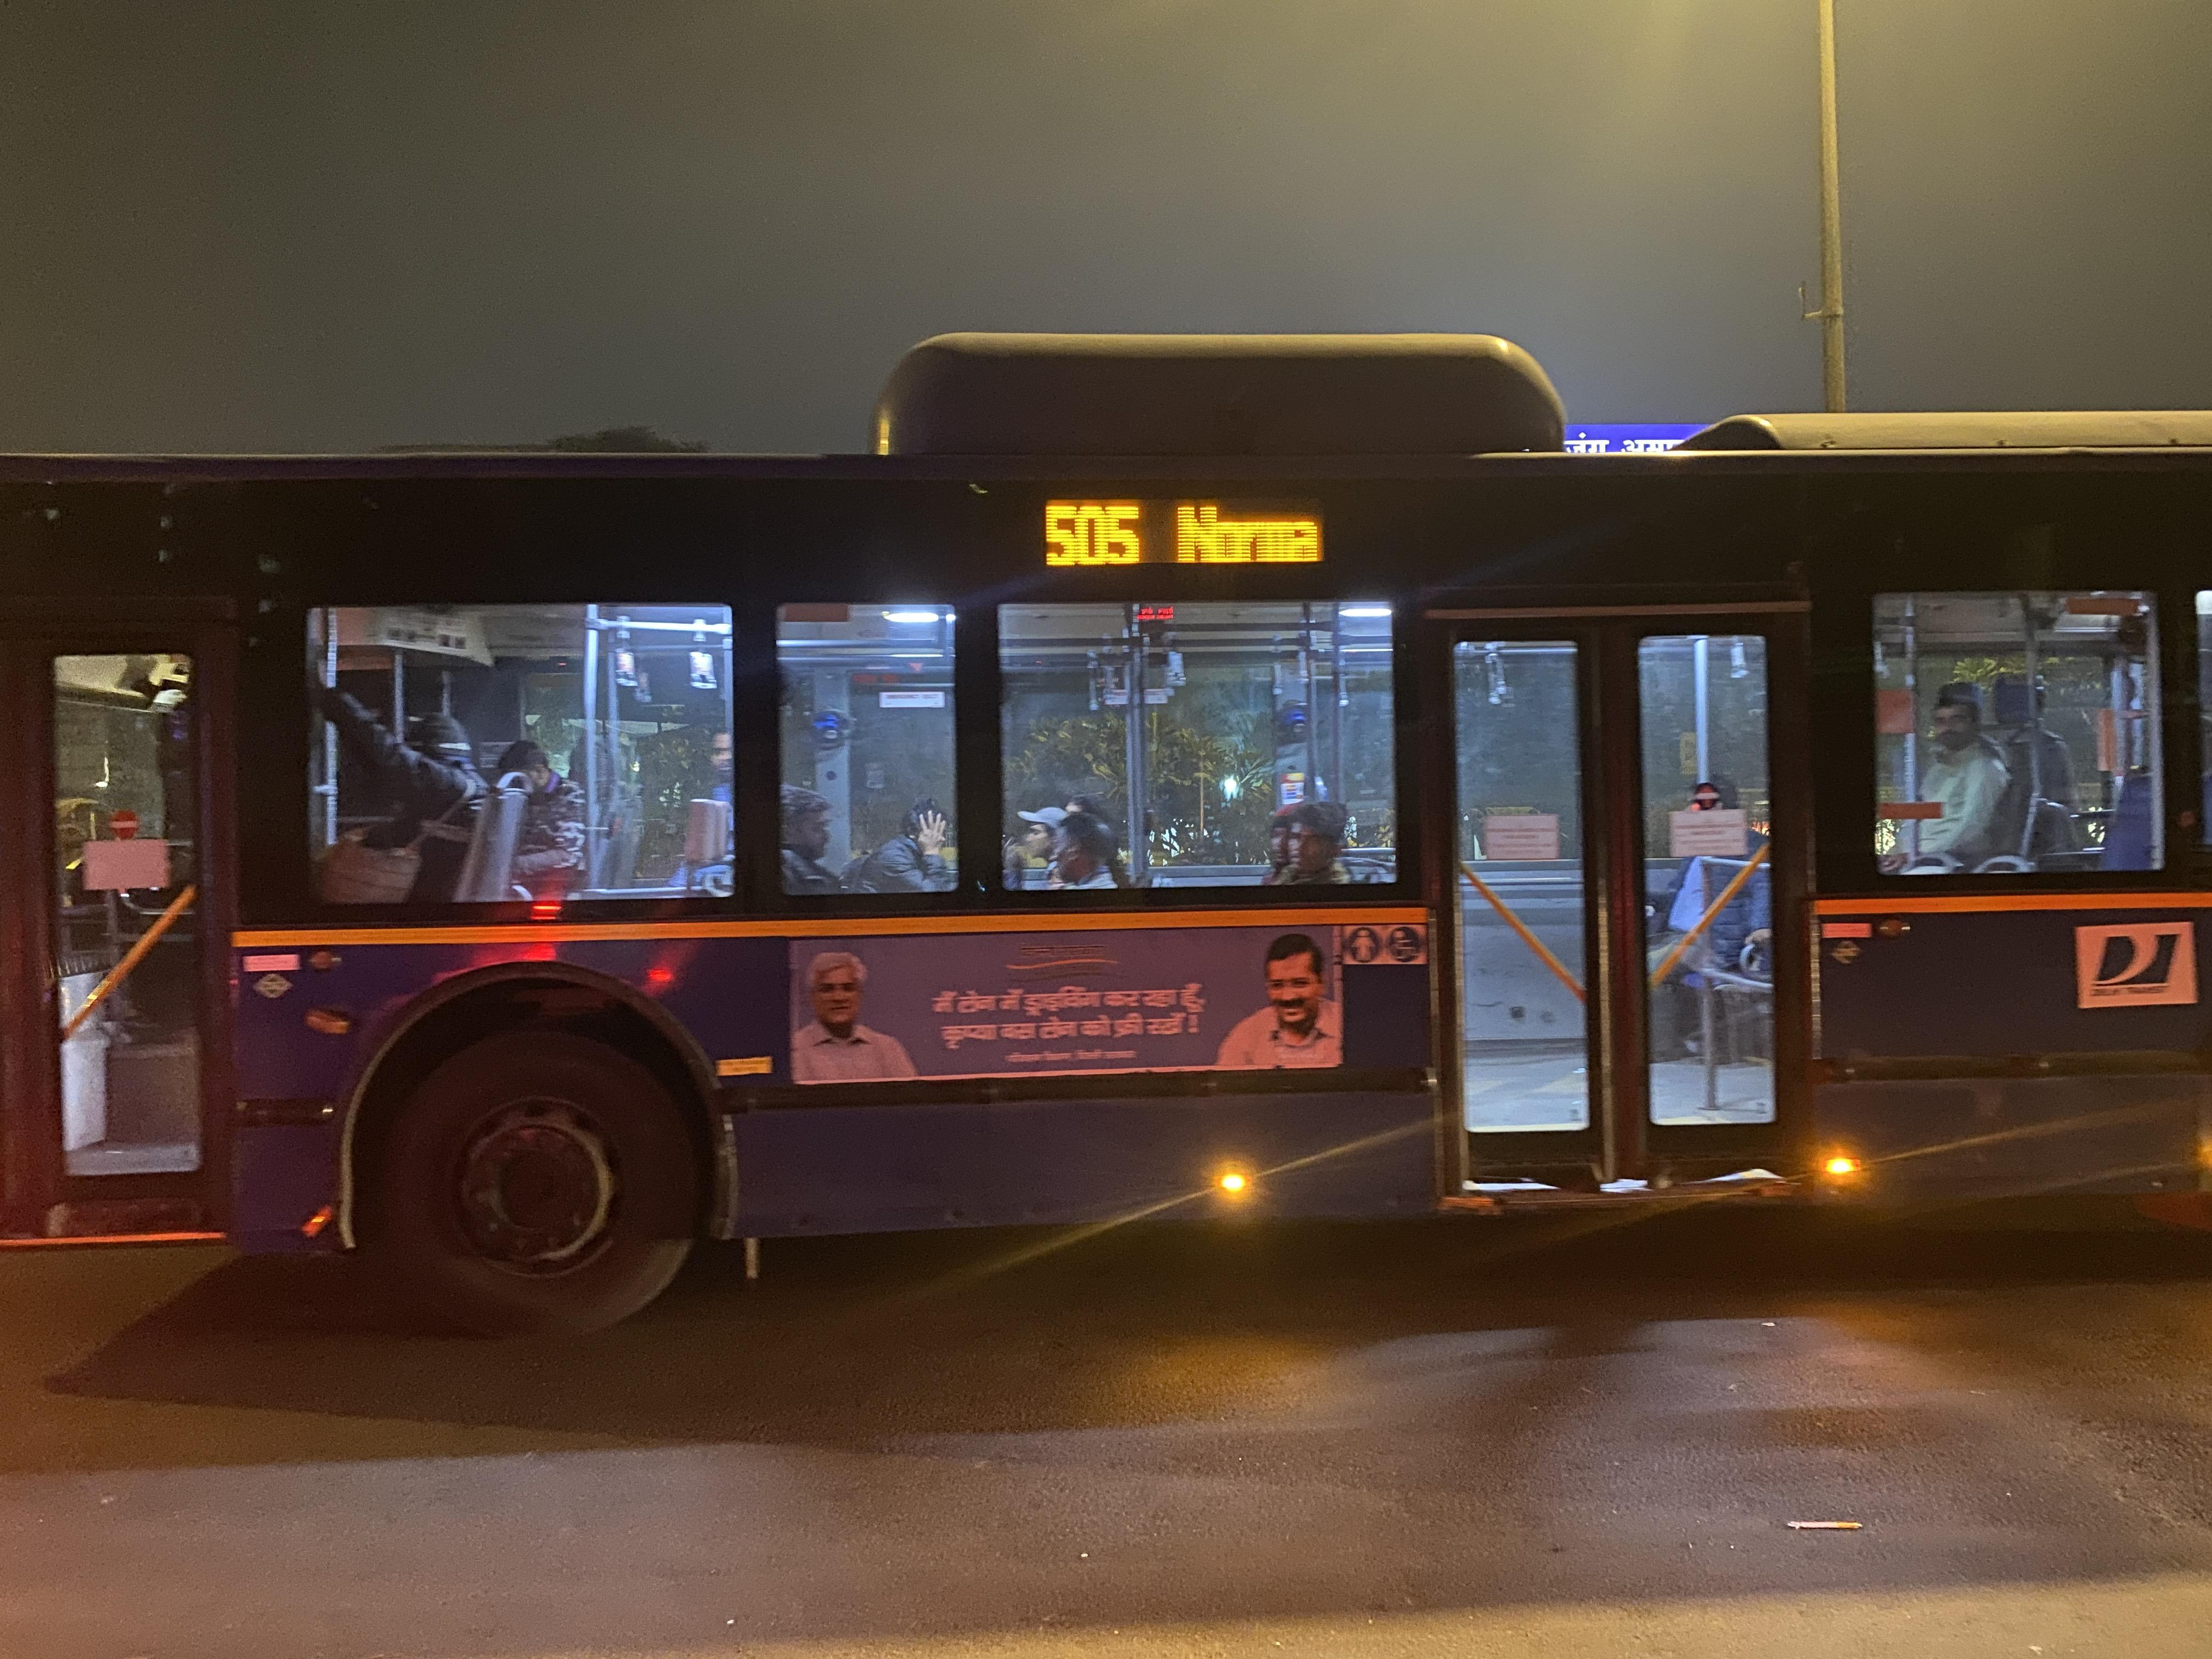Bus: (10, 422, 2212, 1328)
Display Board: (1003, 483, 1388, 615)
